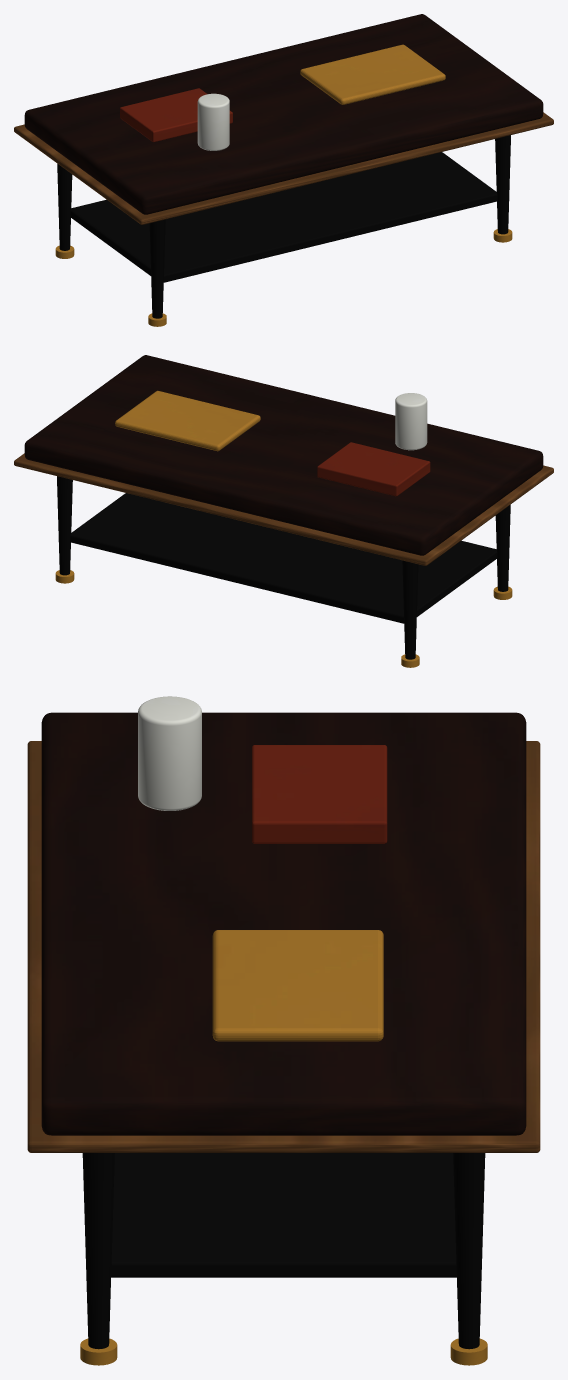
File: razoredge-modern-coffee-table.glb
The picture shows the model from 3 angles, top to bottom: view 1: azimuth 30°, elevation 25°; view 2: azimuth 150°, elevation 25°; view 3: azimuth 270°, elevation 25°; orthographic projection. The views are drawn at different scales.
Parts seen in each view (by area): view 1: top, shelf, top_edge, tray, book, vase_small, leg.002, leg, leg.001; view 2: top, shelf, top_edge, tray, book, vase_small, leg.003, leg.001, leg; view 3: top, shelf, top_edge, tray, book, vase_small, leg.002, leg.003.
Part boxes in pixels (<box>): top: <box>24,14,543,214</box>; shelf: <box>70,152,497,282</box>; top_edge: <box>14,112,553,224</box>; tray: <box>300,44,445,104</box>; book: <box>120,88,232,142</box>; vase_small: <box>197,93,229,150</box>; leg.002: <box>495,135,510,234</box>; leg: <box>149,219,165,318</box>; leg.001: <box>57,164,72,250</box>; top: <box>24,355,543,555</box>; shelf: <box>70,493,497,623</box>; top_edge: <box>14,453,553,565</box>; tray: <box>115,390,260,451</box>; book: <box>317,442,430,496</box>; vase_small: <box>395,393,427,450</box>; leg.003: <box>57,476,72,575</box>; leg.001: <box>402,560,418,659</box>; leg: <box>495,505,510,591</box>; top: <box>41,712,526,1135</box>; shelf: <box>111,1153,456,1277</box>; top_edge: <box>27,741,540,1152</box>; tray: <box>212,930,383,1041</box>; book: <box>252,745,387,843</box>; vase_small: <box>138,696,201,810</box>; leg.002: <box>82,1153,114,1349</box>; leg.003: <box>453,1153,485,1349</box>.
Bounding box in the file's own units: 1.34 × 0.595 × 0.72.
6 materials, 5 textured.
